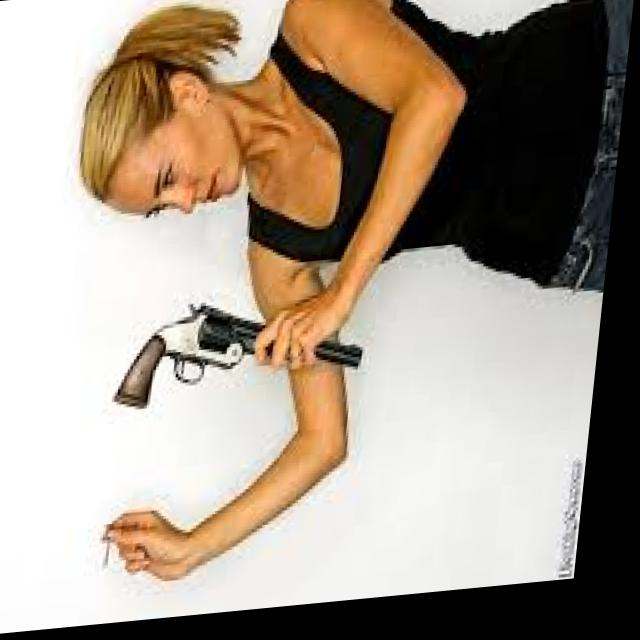handgun: (114, 301, 375, 430)
